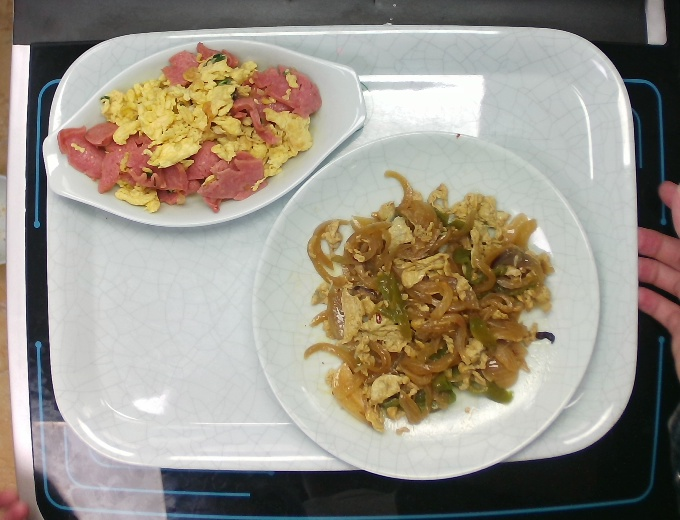JYsf-Da_Yuan_Pan: (250, 128, 601, 484)
JYsf-Yu_Pan: (42, 40, 368, 228)
